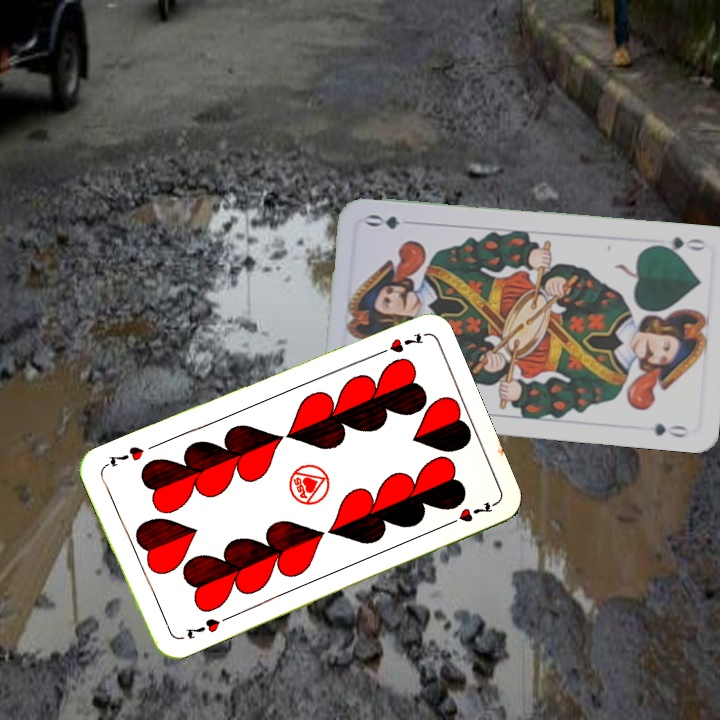GO: (650, 232, 709, 257)
H7: (370, 328, 426, 359), (182, 614, 223, 642)
